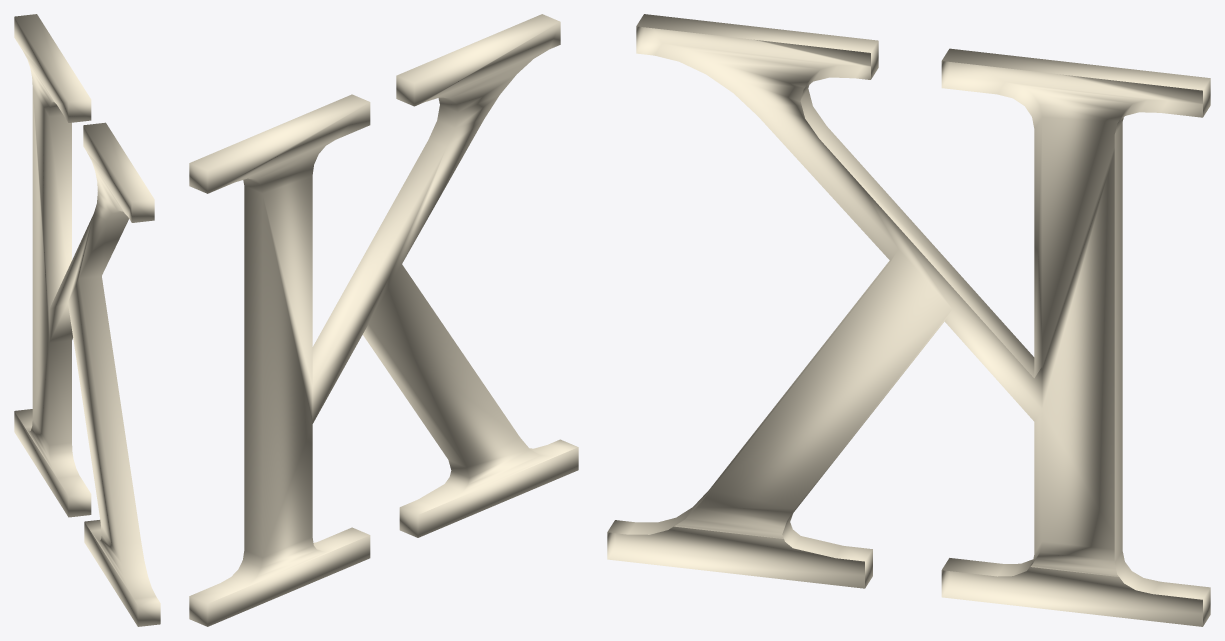
The model's file is original-33.obj.
The picture shows the model from 3 angles, left to right: view 1: azimuth 30°, elevation 25°; view 2: azimuth 150°, elevation 25°; view 3: azimuth 270°, elevation 25°; orthographic projection. The views are drawn at different scales.
Visible parts, largest first — view 1: mesh8/mesh8-geometry/material_3/component_11#mesh8-geometry; view 2: mesh8/mesh8-geometry/material_3/component_11#mesh8-geometry; view 3: mesh8/mesh8-geometry/material_3/component_11#mesh8-geometry.
Boxes of the visible parts, x1,y1,x2,y2 form: mesh8/mesh8-geometry/material_3/component_11#mesh8-geometry: [14, 14, 160, 626]; mesh8/mesh8-geometry/material_3/component_11#mesh8-geometry: [189, 14, 578, 626]; mesh8/mesh8-geometry/material_3/component_11#mesh8-geometry: [607, 14, 1210, 626].
Bounding box in the file's own units: 0.00949 × 0.0297 × 0.0303.
